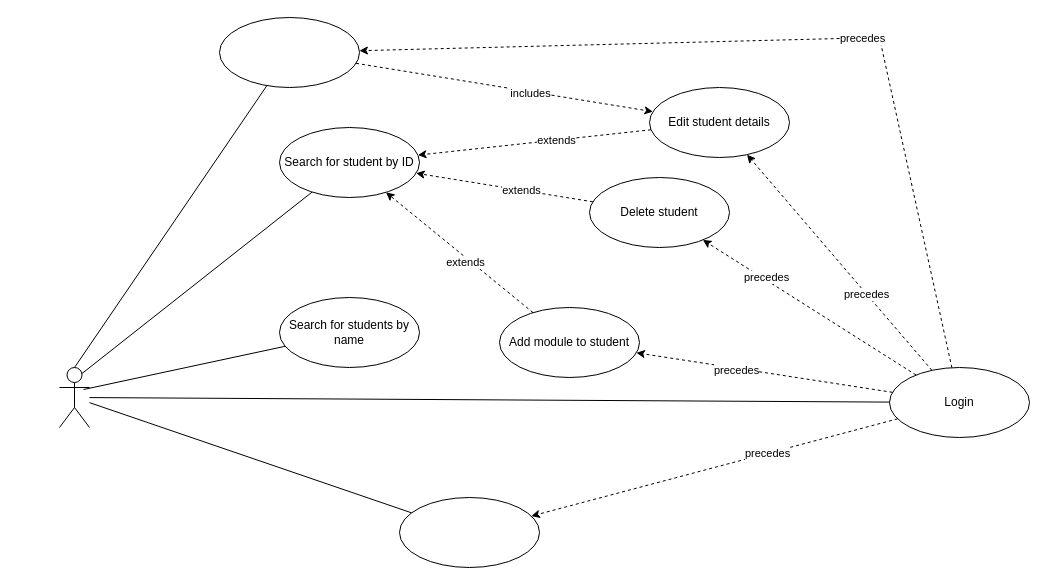
This 1047x585 diagram has some shape labels left out. Each missing label, with the box of its shape:
Add a module: (398, 496, 540, 568)
Enrol a student: (218, 16, 360, 88)
University admin staff: (58, 366, 90, 428)
